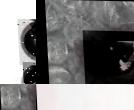ironball: (81, 30, 133, 84), (16, 18, 36, 65), (20, 61, 36, 84)
